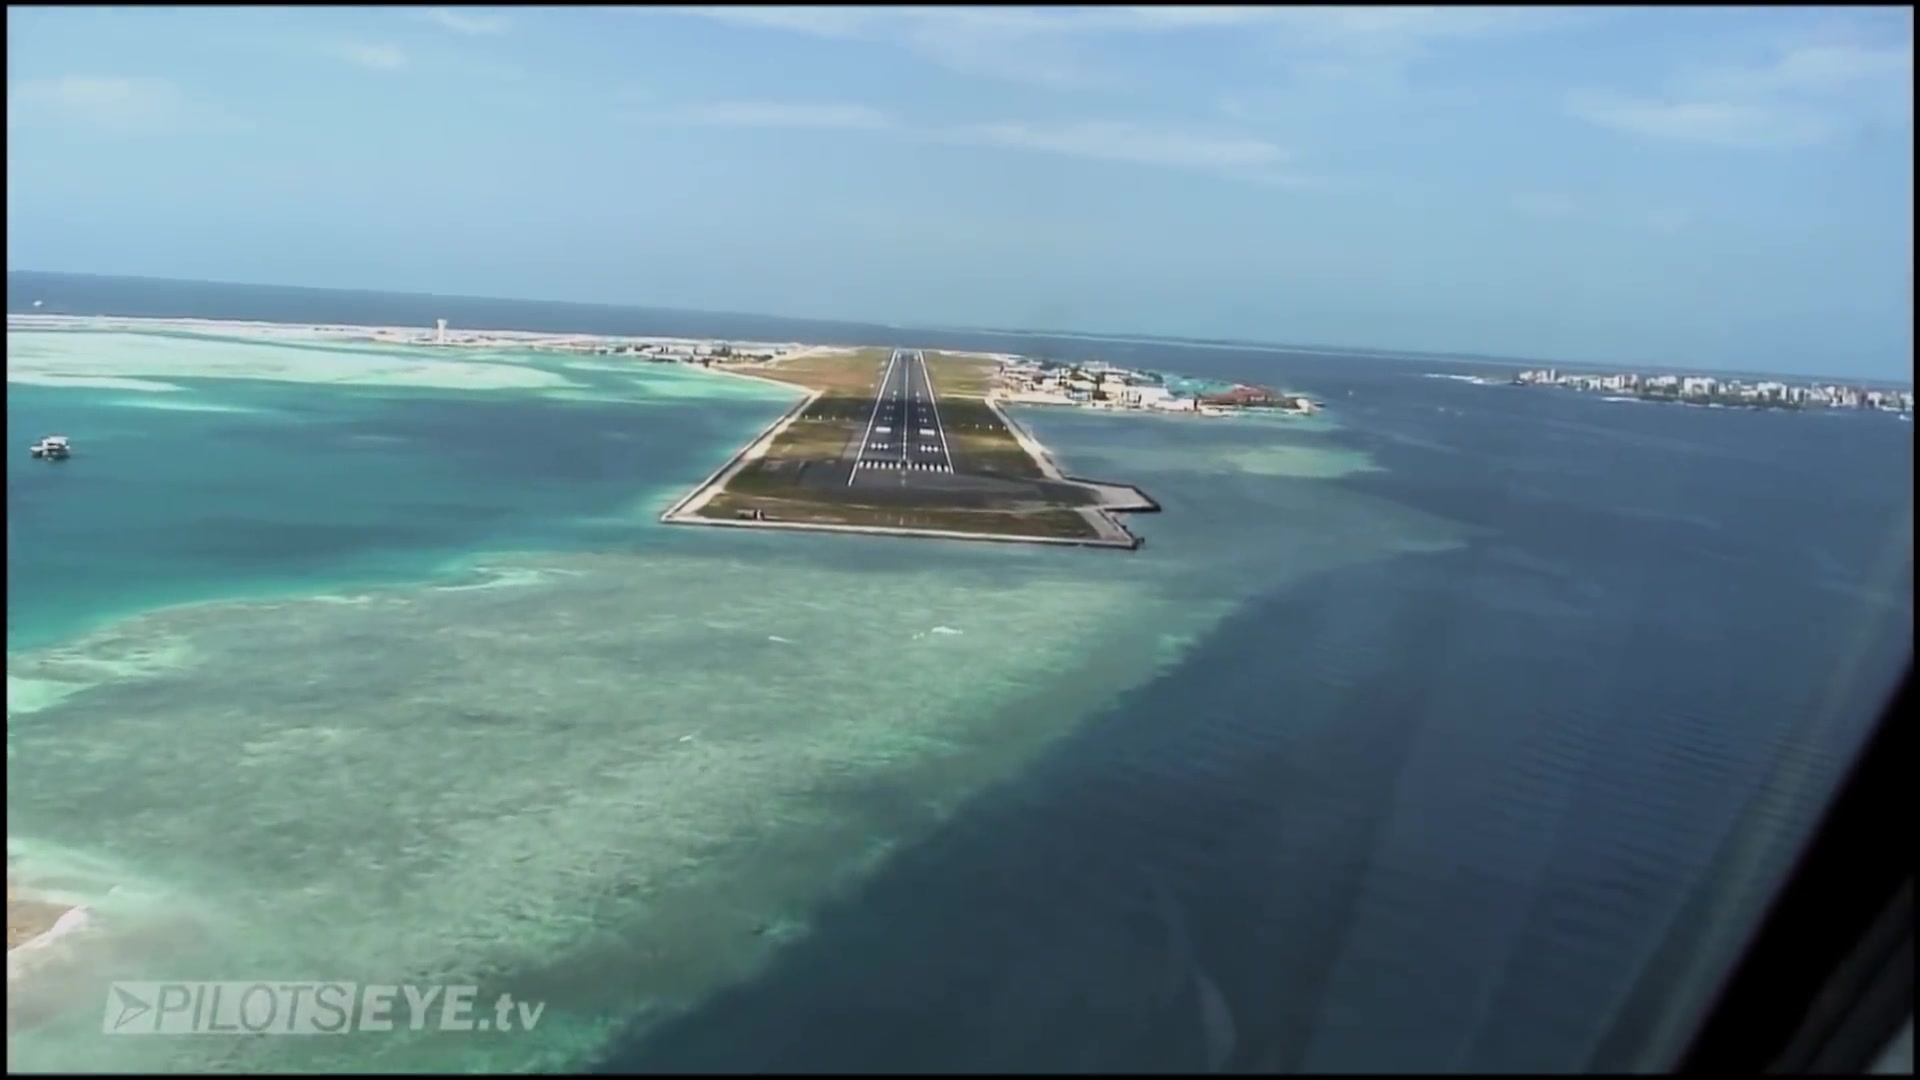entrance: (856, 458, 949, 475)
runway: (848, 352, 957, 489)
